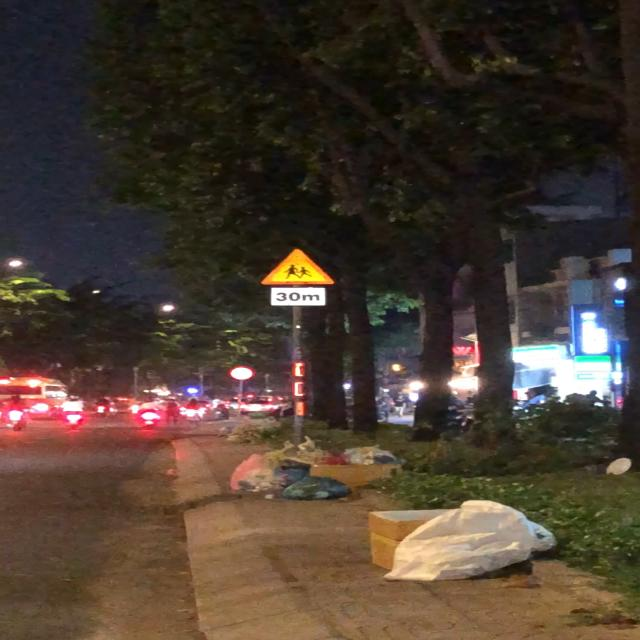Bien bao tre em: (260, 246, 343, 287)
